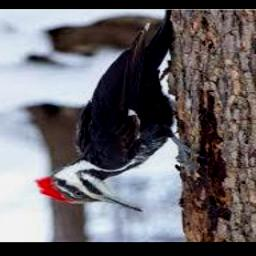Woodpecker: (35, 9, 204, 213)
